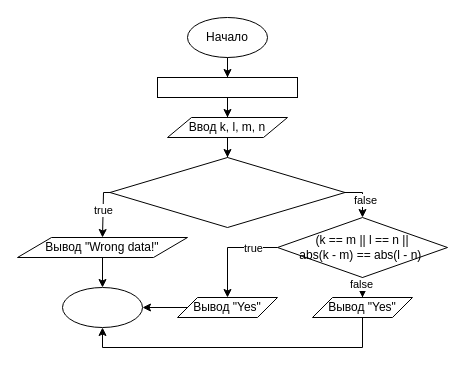
Some shapes in this 465 by 373 pixel diagram are drawn without their labels. The shapes that lost their labels are listed below. From the top down, each one's box as (x1, y1, x2, y2) in pixels, then its label:
(156, 76, 298, 98): Целые числа k, l, m, n
(109, 156, 345, 228): (k < 1 || 8 < k) || (l < 1 || 8 < l) || (m < 1 || 8 < m) || (n < 1 || 8 < n)
(62, 286, 142, 328): Конец
